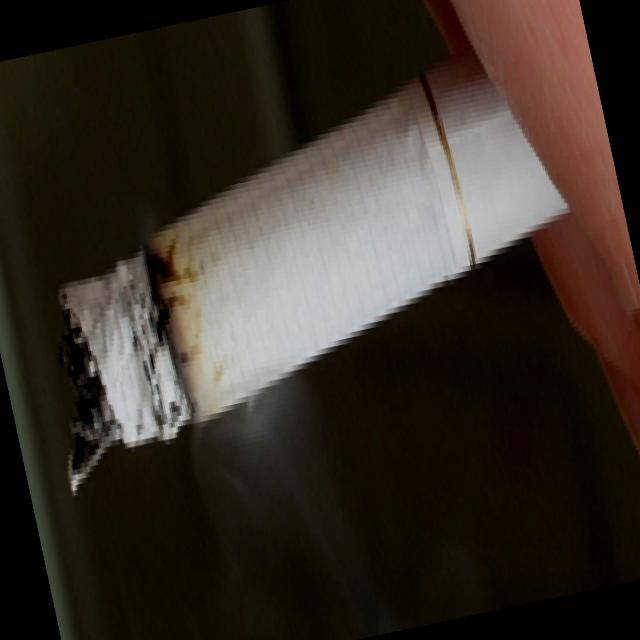smoke: (0, 51, 565, 499)
